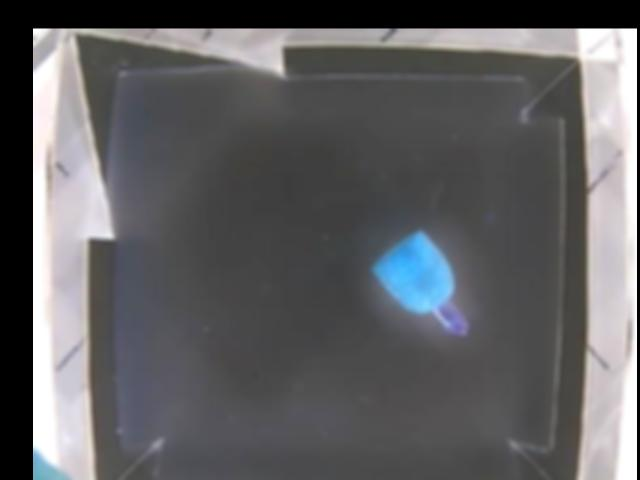Carrot: (376, 230, 470, 337)
